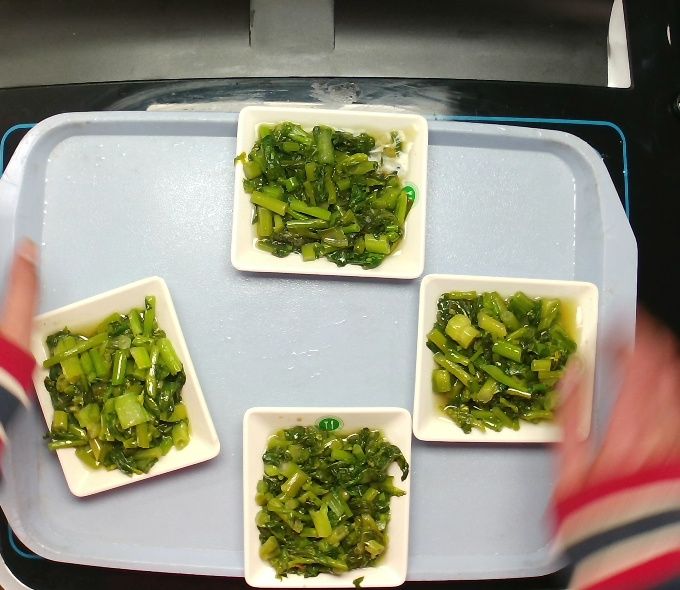wcq-YouCaiHua: (33, 287, 197, 482), (234, 113, 413, 271), (417, 274, 580, 447), (257, 417, 398, 579)
